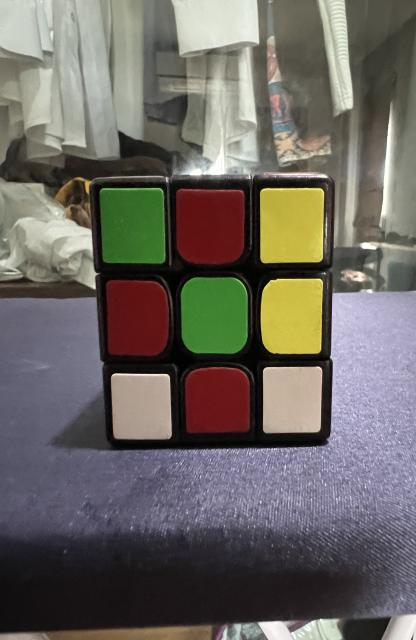Green: (181, 278, 248, 354), (100, 188, 166, 264)
Red: (176, 189, 245, 264), (106, 280, 169, 356), (185, 368, 250, 434)
White: (110, 374, 172, 440), (263, 366, 323, 434)
Yellow: (260, 188, 324, 264), (261, 279, 323, 354)
